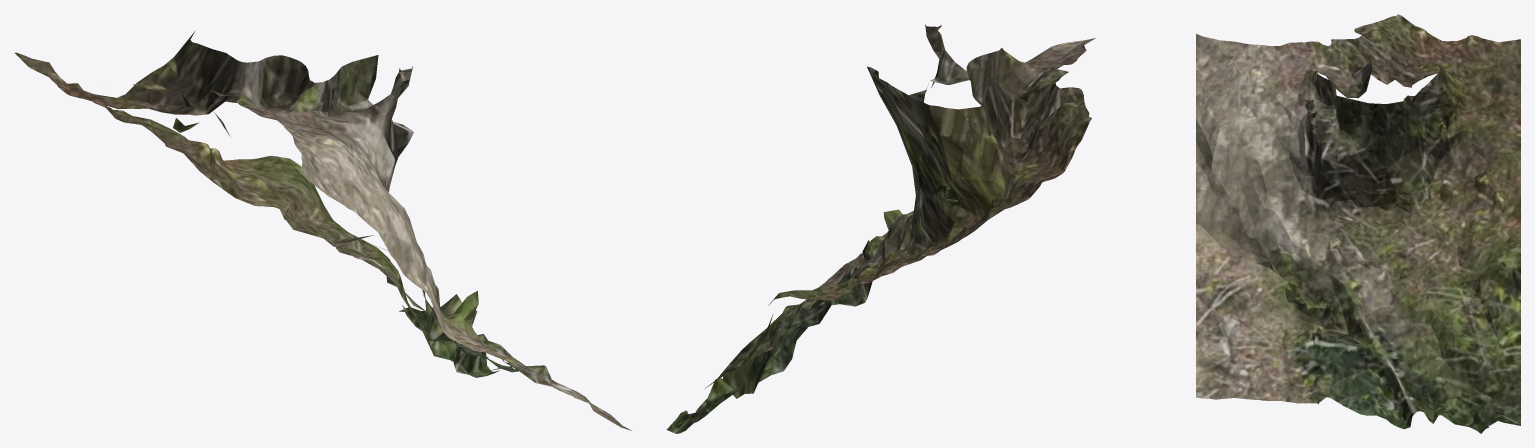
The picture shows the model from 3 angles, left to right: view 1: azimuth 30°, elevation 25°; view 2: azimuth 150°, elevation 25°; view 3: azimuth 270°, elevation 25°; orthographic projection. The views are drawn at different scales.
Size of the model in its own units: 2.95 by 2.83 by 2.95.
Materials: 4 (4 with a texture image).
